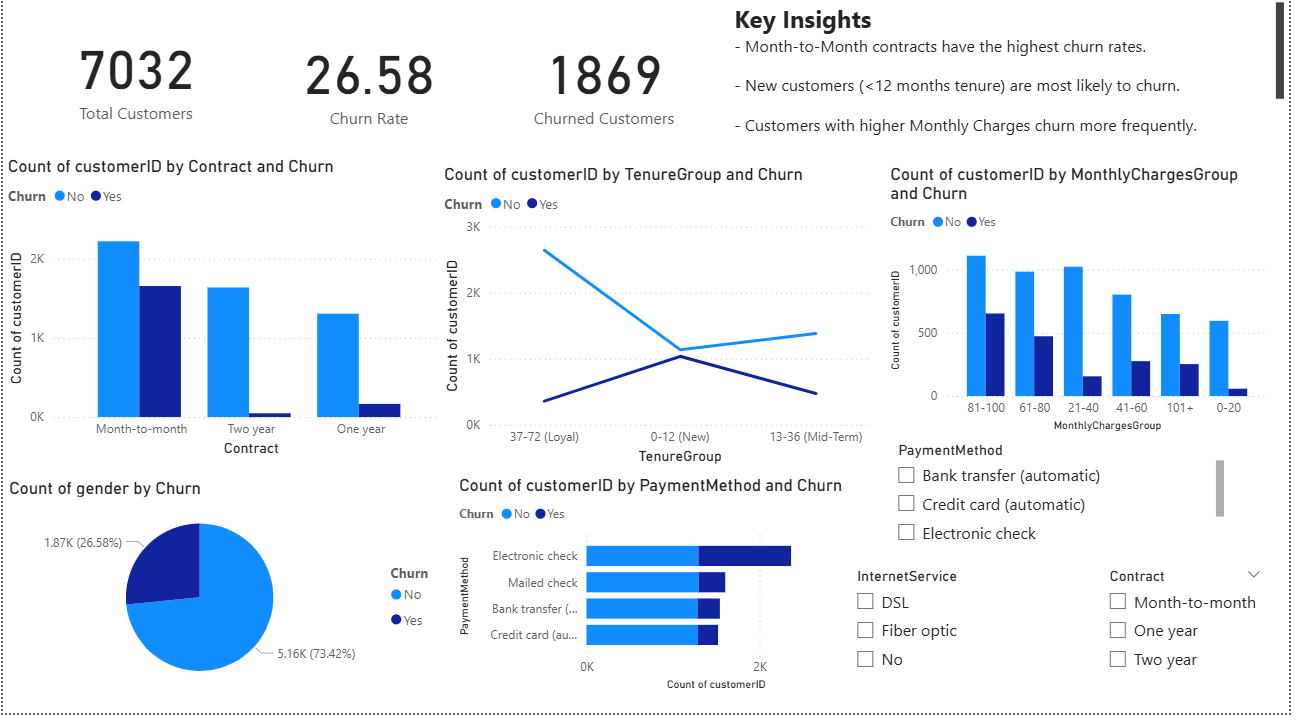

Layout of this report page (visuals, bound fields, positions):
{"tool":"powerbi","page":{"name":"Page 1","canvas":[1280,720],"ordinal":0},"visuals":[{"type":"clusteredColumnChart","fields":{"Category":["TelcoChurn_Cleaned.Contract"],"Y":["CountNonNull(TelcoChurn_Cleaned.customerID)"],"Series":["TelcoChurn_Cleaned.Churn"]},"box":[0,165.7,448.9,303.3],"z":0},{"type":"lineChart","fields":{"Y":["CountNonNull(TelcoChurn_Cleaned.customerID)"],"Series":["TelcoChurn_Cleaned.Churn"],"Category":["TelcoChurn_Cleaned.TenureGroup"]},"box":[434.1,172.9,444.1,303.5],"z":1000},{"type":"clusteredColumnChart","fields":{"Series":["TelcoChurn_Cleaned.Churn"],"Y":["CountNonNull(TelcoChurn_Cleaned.customerID)"],"Category":["TelcoChurn_Cleaned.MonthlyChargesGroup"]},"box":[878.2,172.9,385.6,271.2],"z":2000},{"type":"pieChart","fields":{"Category":["TelcoChurn_Cleaned.Churn"],"Y":["CountNonNull(TelcoChurn_Cleaned.gender)"]},"box":[1.4,485.8,447.3,219.6],"z":3000},{"type":"barChart","fields":{"Y":["CountNonNull(TelcoChurn_Cleaned.customerID)"],"Category":["TelcoChurn_Cleaned.PaymentMethod"],"Series":["TelcoChurn_Cleaned.Churn"]},"box":[448.7,483,402.1,219.6],"z":4000},{"type":"slicer","fields":{"Values":["TelcoChurn_Cleaned.Contract"]},"box":[1088.5,569.7,175.4,136.8],"z":5000},{"type":"slicer","fields":{"Values":["TelcoChurn_Cleaned.PaymentMethod"]},"box":[878.2,444.1,342.1,109.5],"z":6000},{"type":"slicer","fields":{"Values":["TelcoChurn_Cleaned.InternetService"]},"box":[837.2,569.7,186.6,134.3],"z":7000},{"type":"card","fields":{"Values":["TelcoChurn_Cleaned.Total Customers"]},"box":[12.4,16.2,240.1,135.6],"z":8000},{"type":"card","fields":{"Values":["TelcoChurn_Cleaned.Churned Customers"]},"box":[491.4,11.2,214,154.3],"z":9000},{"type":"card","fields":{"Values":["TelcoChurn_Cleaned.Churn Rate"]},"box":[252.5,14.9,223.9,146.8],"z":10000},{"type":"textbox","box":[722.7,7.5,557.3,144.3],"z":11000}]}

Visuals, with their boxes in screenshot pixels (x1, y1, x2, y2), scaled from the page's 1280x720 canvas onto the 1301x722 screenshot:
clusteredColumnChart - TelcoChurn_Cleaned.Contract x CountNonNull(TelcoChurn_Cleaned.customerID): box=[0, 166, 456, 470]
lineChart - CountNonNull(TelcoChurn_Cleaned.customerID) x TelcoChurn_Cleaned.Churn: box=[441, 173, 893, 478]
clusteredColumnChart - TelcoChurn_Cleaned.Churn x CountNonNull(TelcoChurn_Cleaned.customerID): box=[893, 173, 1285, 445]
pieChart - TelcoChurn_Cleaned.Churn x CountNonNull(TelcoChurn_Cleaned.gender): box=[1, 487, 456, 707]
barChart - CountNonNull(TelcoChurn_Cleaned.customerID) x TelcoChurn_Cleaned.PaymentMethod: box=[456, 484, 865, 705]
slicer - TelcoChurn_Cleaned.Contract: box=[1106, 571, 1285, 708]
slicer - TelcoChurn_Cleaned.PaymentMethod: box=[893, 445, 1240, 555]
slicer - TelcoChurn_Cleaned.InternetService: box=[851, 571, 1041, 706]
card - TelcoChurn_Cleaned.Total Customers: box=[13, 16, 257, 152]
card - TelcoChurn_Cleaned.Churned Customers: box=[499, 11, 717, 166]
card - TelcoChurn_Cleaned.Churn Rate: box=[257, 15, 484, 162]
textbox: box=[735, 8, 1300, 152]
